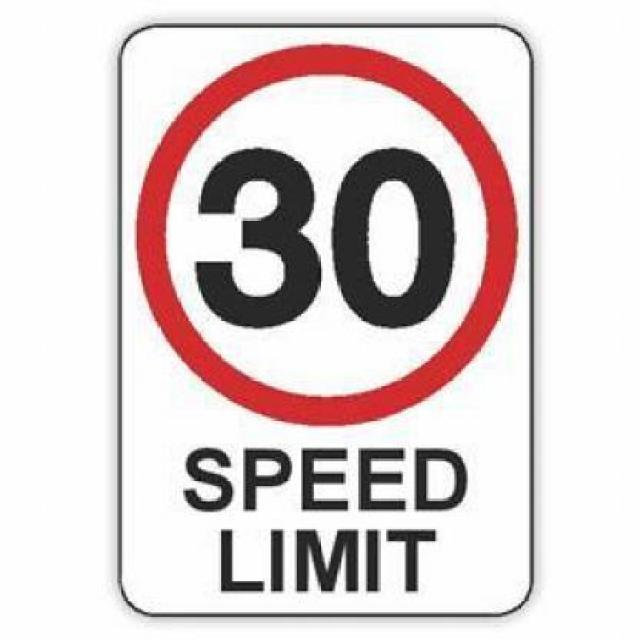forb_speed_over_30: (138, 47, 520, 428)
